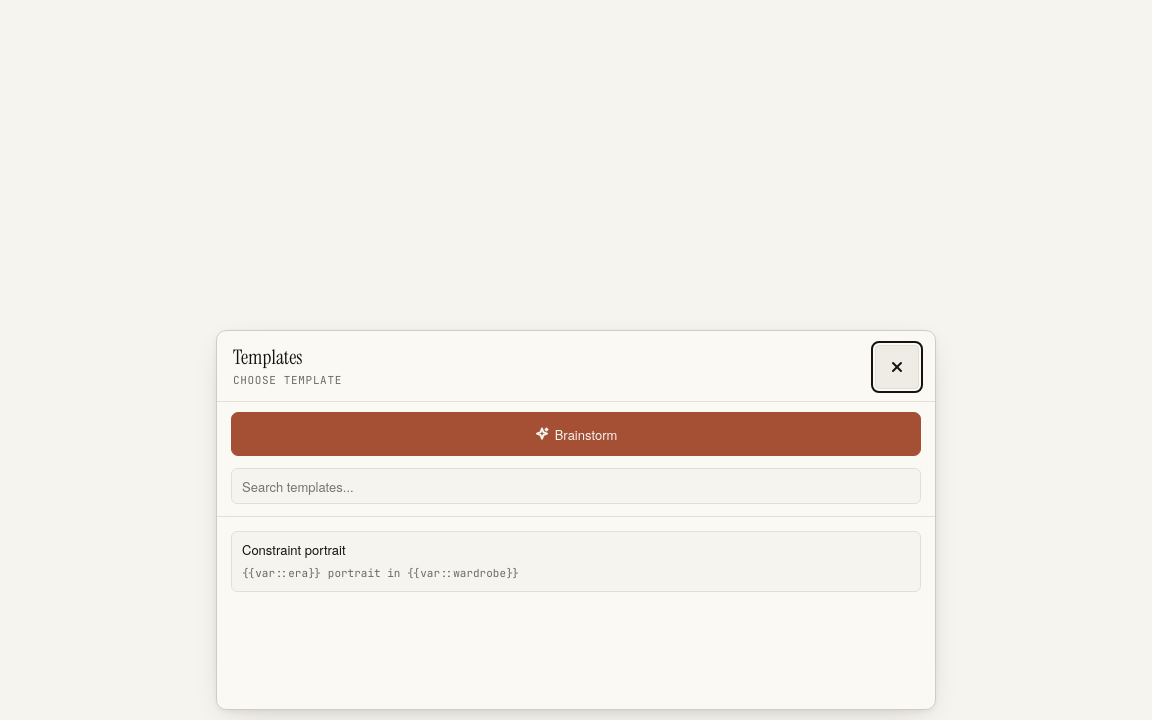
Scenario: PromptPicker Simulate (in-window preview) › Simulate is absent in sweep mode (footer shows the sweep primary)
Click the text "Constraint portrait" at (294, 550), box [242,540,346,559]
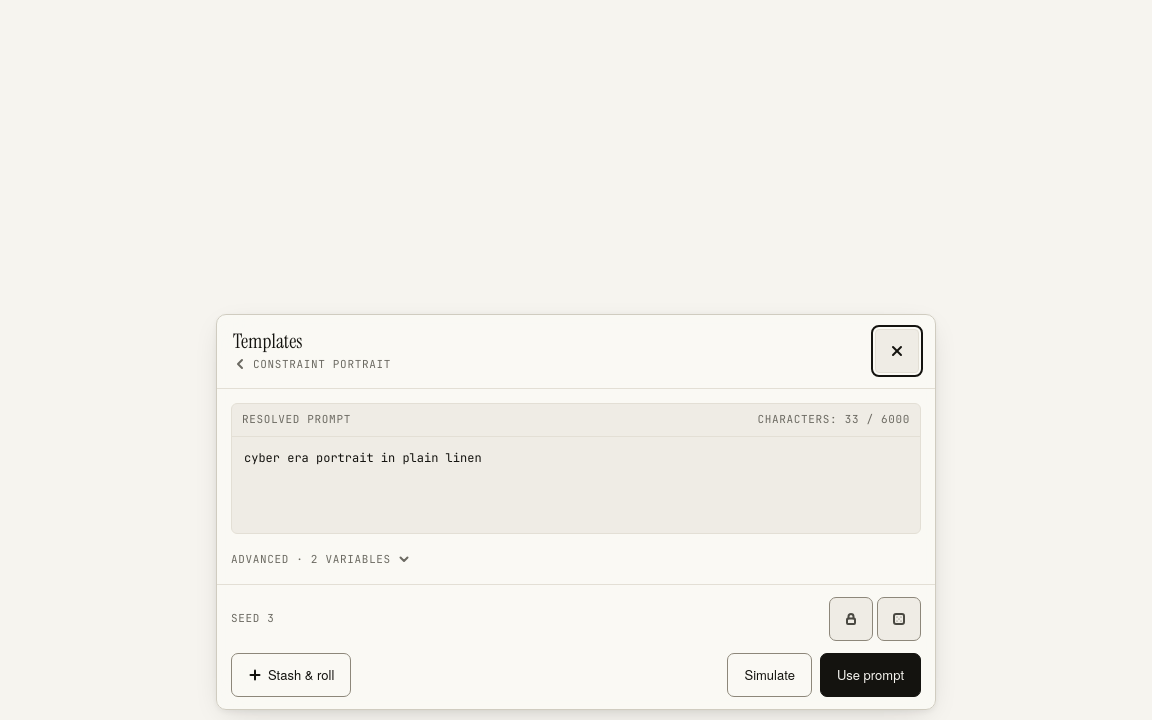
Click the button "Advanced · 2 variables" at (321, 559), box [231,548,411,570]
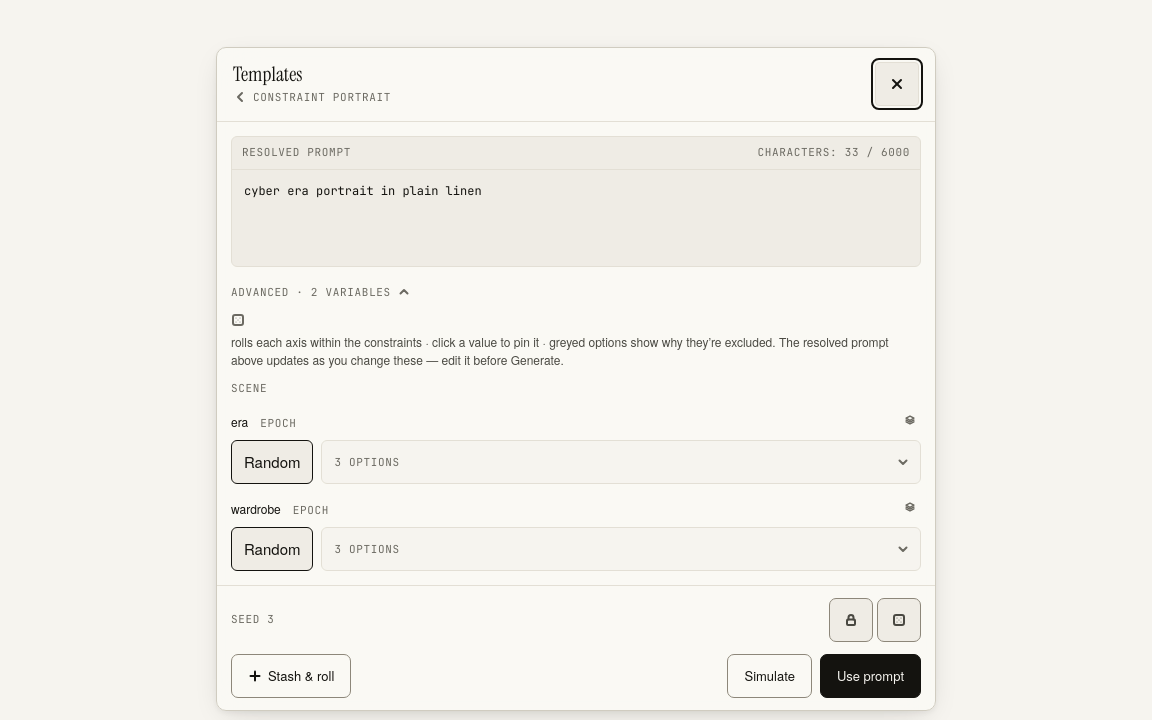
Expected: the button with aria-label "choose era value" is shown, [322,439,921,483]
Click the button named "sweep this axis" at (910, 419), box [899,408,921,430]
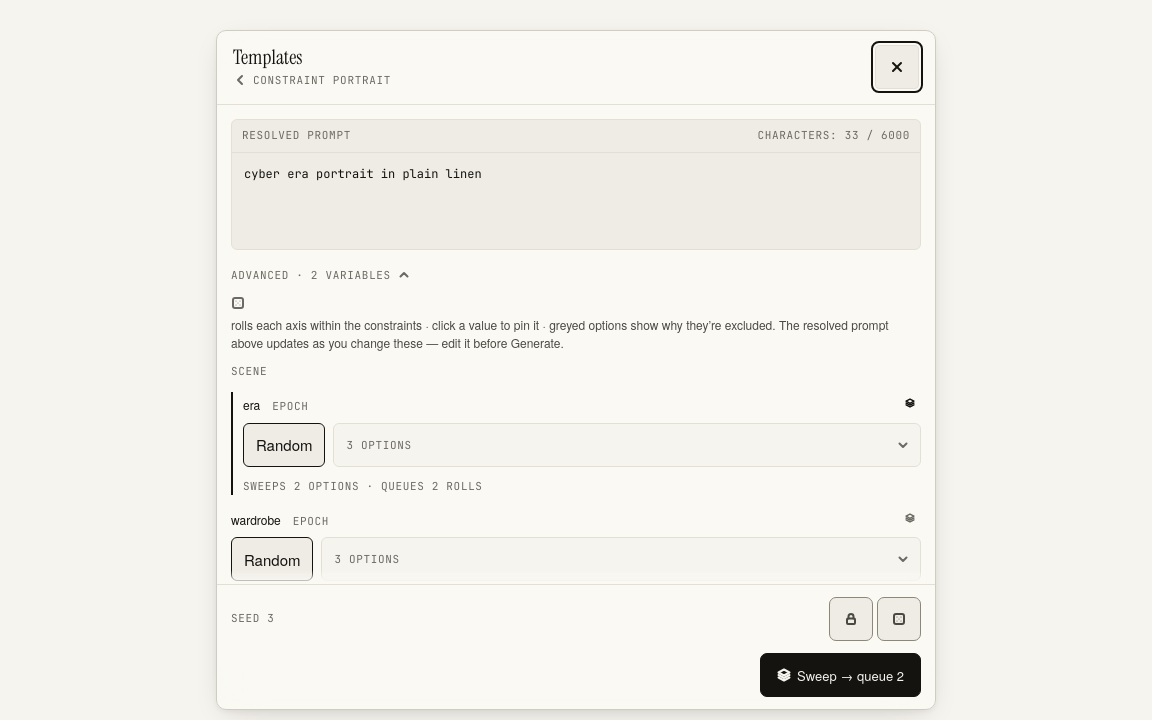
Expected: the button with aria-label "sweep this axis into 2 queued rolls" is shown, [760,653,921,697]
Expected: the button "Simulate" is gone
